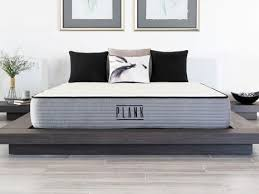bed-matress: (29, 76, 231, 131)
